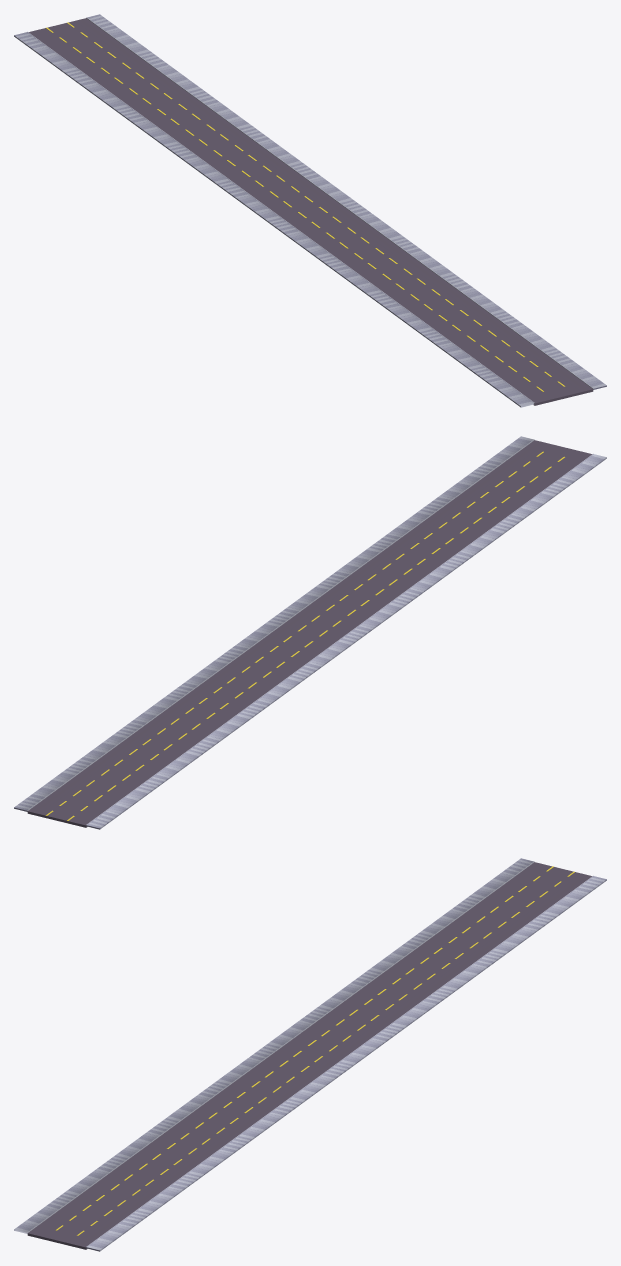
File: road.fbx
The picture shows the model from 3 angles, top to bottom: view 1: azimuth 30°, elevation 25°; view 2: azimuth 150°, elevation 25°; view 3: azimuth 330°, elevation 25°; orthographic projection.
Visible parts, largest first — view 1: road, sidewalk2, sidewalk1, road.001; view 2: road, sidewalk2, sidewalk1, road.001; view 3: road, sidewalk1, sidewalk2, road.001.
Boxes of the visible parts, left/top/right/bottom form: road: left=28, top=18, right=593, bottom=405; sidewalk2: left=14, top=31, right=534, bottom=407; sidewalk1: left=86, top=14, right=606, bottom=389; road.001: left=46, top=22, right=565, bottom=391; road: left=27, top=440, right=592, bottom=827; sidewalk2: left=86, top=453, right=606, bottom=829; sidewalk1: left=14, top=436, right=534, bottom=811; road.001: left=45, top=451, right=564, bottom=820; road: left=27, top=862, right=592, bottom=1249; sidewalk1: left=86, top=875, right=606, bottom=1251; sidewalk2: left=14, top=858, right=534, bottom=1233; road.001: left=55, top=866, right=574, bottom=1235.
Bounding box in the file's own units: 3912 × 133 × 39991.
